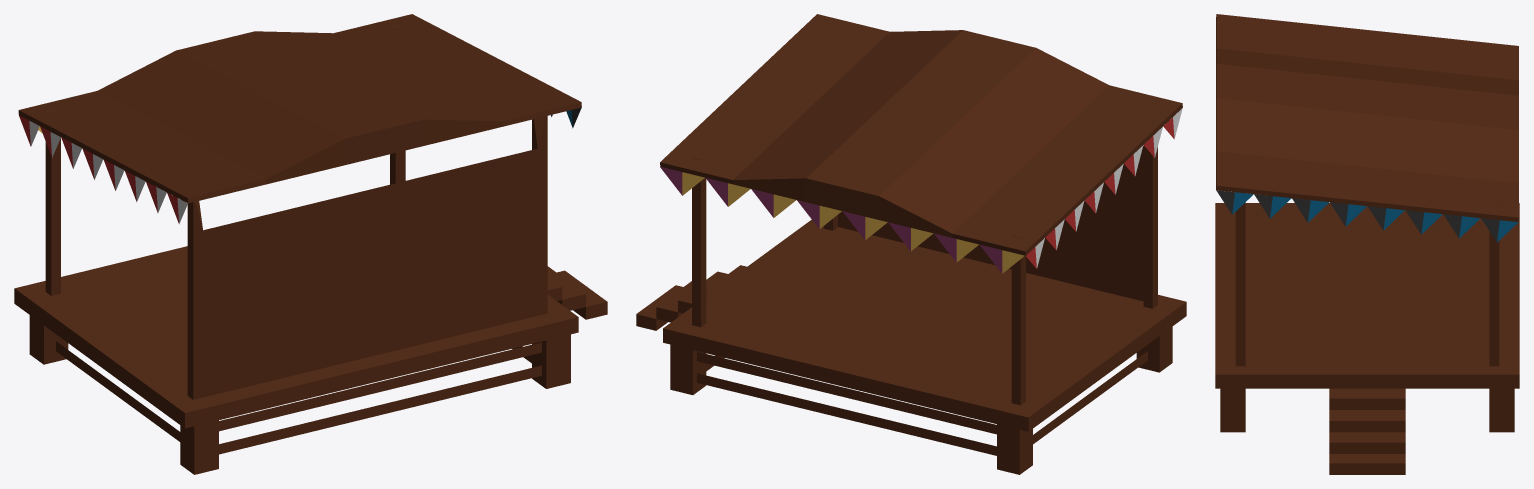
File: Pedestal.fbx
3 renders of one model, left to right at view 1: azimuth 30°, elevation 25°; view 2: azimuth 150°, elevation 25°; view 3: azimuth 270°, elevation 25°, orthographic. The views are drawn at different scales.
Visible parts, largest first — view 1: Pedestal; view 2: Pedestal; view 3: Pedestal.
Boxes of the visible parts, x1,y1,x2,y2 form: Pedestal: (14, 14, 607, 474); Pedestal: (636, 14, 1186, 474); Pedestal: (1215, 14, 1519, 474).
Size of the model in its own units: 494 by 293 by 300.
